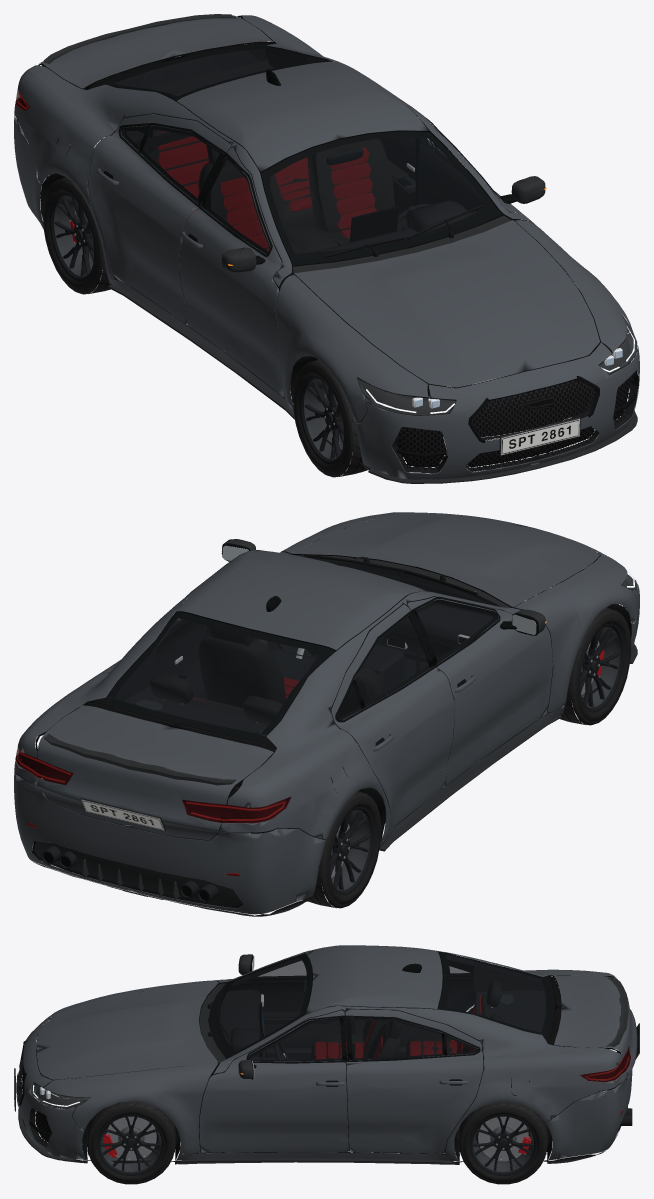
3 renders of one model, top to bottom at view 1: azimuth 30°, elevation 25°; view 2: azimuth 150°, elevation 25°; view 3: azimuth 270°, elevation 25°, orthographic. The views are drawn at different scales.
Visible parts, largest first — view 1: Body, Wheel_FR, Wheel_RR; view 2: Body, Wheel_FR, Wheel_RR; view 3: Body, Wheel_RL, Wheel_FL.
Part boxes in pixels (x1=…): Body: x1=14, y1=14, x2=639, y2=483; Wheel_FR: x1=293, y1=360, x2=371, y2=477; Wheel_RR: x1=43, y1=177, x2=111, y2=294; Body: x1=14, y1=512, x2=639, y2=916; Wheel_FR: x1=559, y1=607, x2=631, y2=725; Wheel_RR: x1=303, y1=791, x2=381, y2=908; Body: x1=14, y1=945, x2=639, y2=1164; Wheel_RL: x1=458, y1=1102, x2=548, y2=1184; Wheel_FL: x1=86, y1=1101, x2=175, y2=1184.
Bounding box in the file's own units: 2.1 × 1.45 × 4.81.
Materials: 59 (12 with a texture image).
